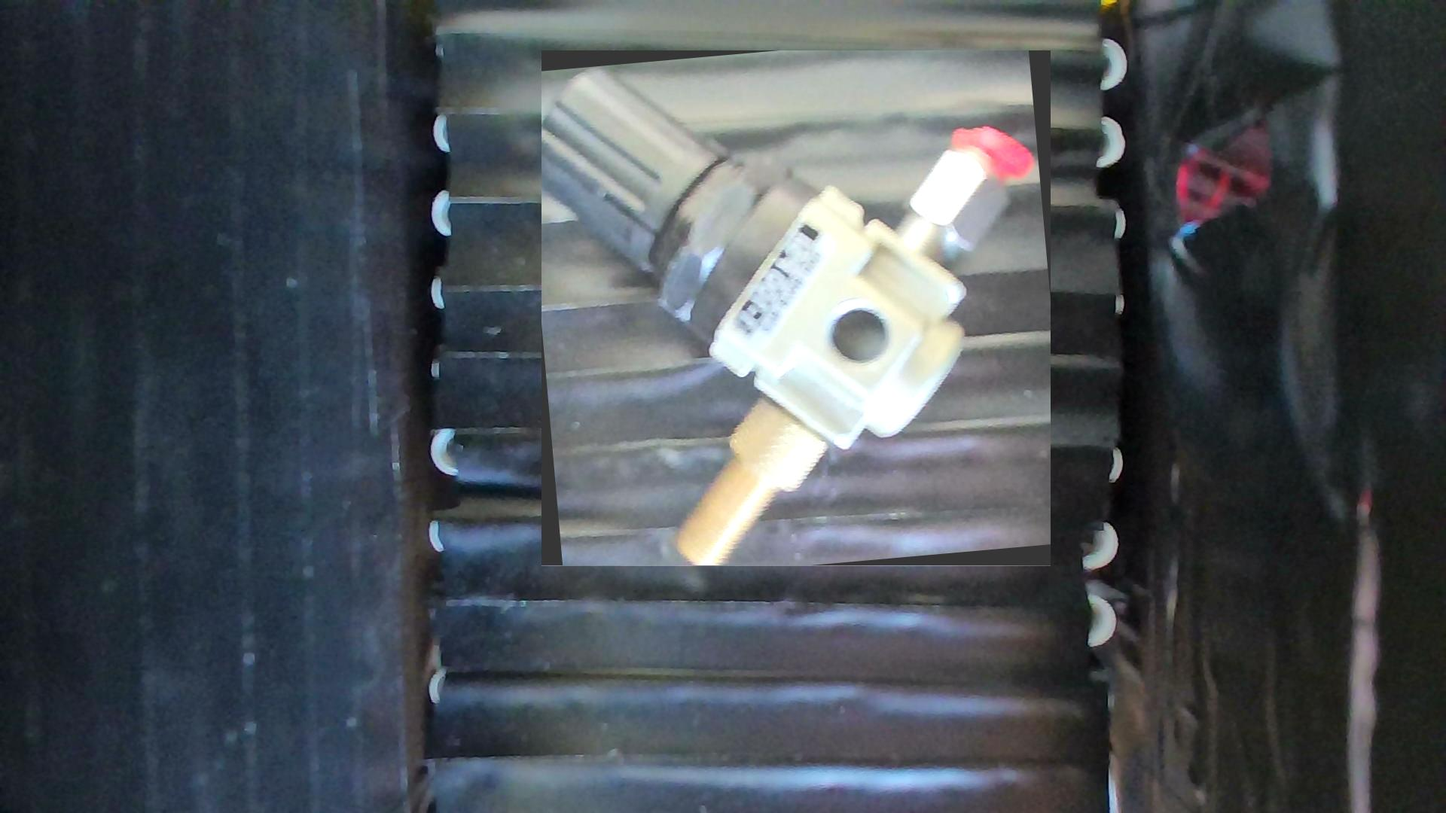regulator: (541, 51, 1050, 567)
